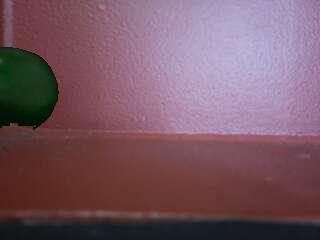Lime: (0, 42, 60, 132)
